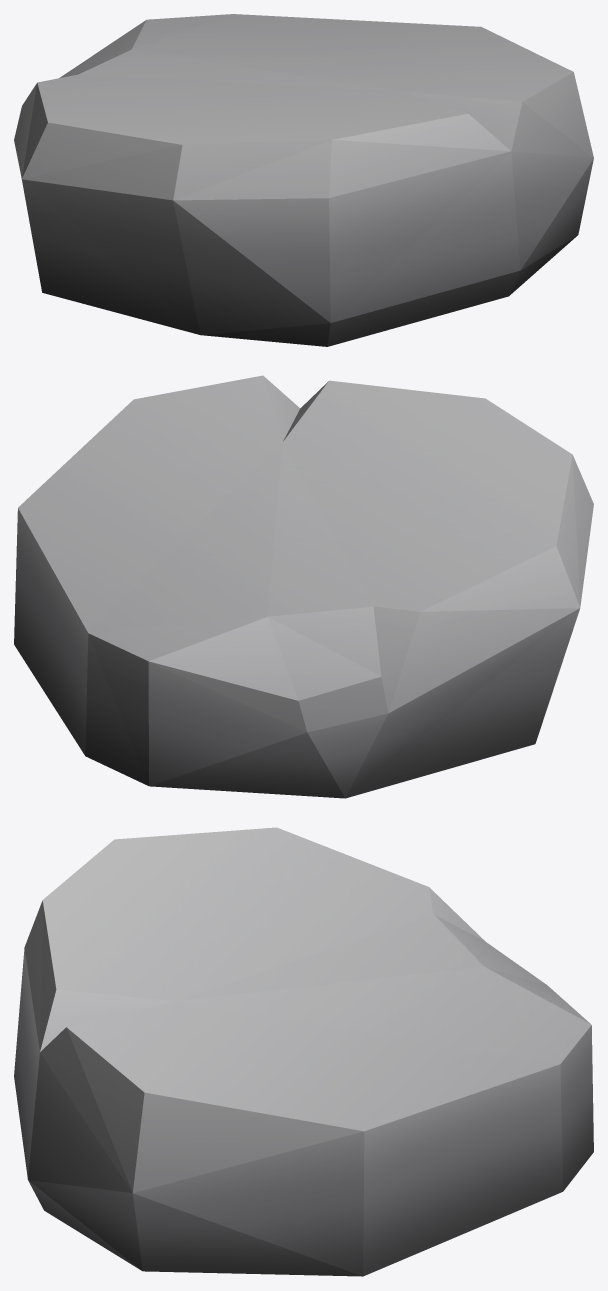
The model's file is RockMed-03.FBX.
The picture shows the model from 3 angles, top to bottom: view 1: azimuth 30°, elevation 25°; view 2: azimuth 150°, elevation 25°; view 3: azimuth 270°, elevation 25°; orthographic projection. The views are drawn at different scales.
Parts seen in each view (by area): view 1: RockMed-03; view 2: RockMed-03; view 3: RockMed-03.
Part boxes in pixels (<box>): RockMed-03: <box>14,14,593,346</box>; RockMed-03: <box>14,375,593,798</box>; RockMed-03: <box>14,827,593,1276</box>.
Bounding box in the file's own units: 179 × 67.85 × 164.
Materials: 1 (1 with a texture image).
